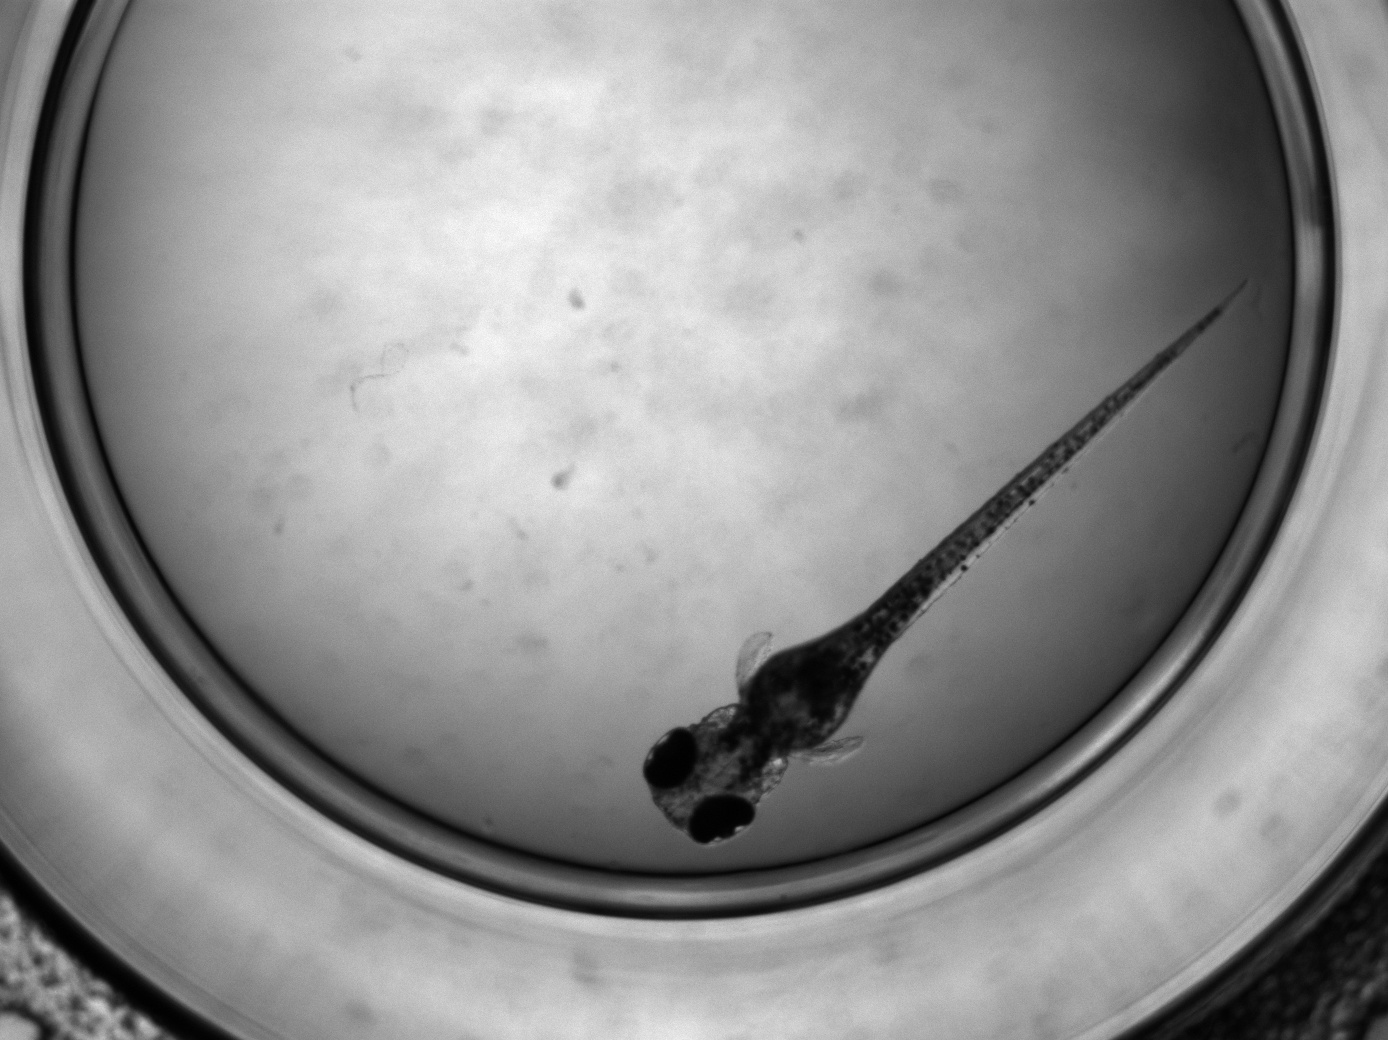embryo: (643, 274, 1253, 846)
eye: (687, 792, 755, 846), (643, 726, 698, 788)
yolksac: (746, 645, 859, 751)
